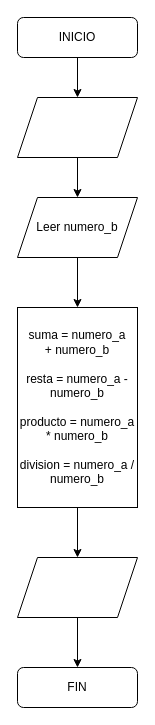
Some shapes in this 155 by 725 pixel diagram are drawn without their labels. Here are the shapes that lost their labels. From the top down, the centre of each, then its label:
At (77,127): "Leer numero_a".
At (77,587): "Escribir suma Escribir resta Escribir producto Escribir división".
